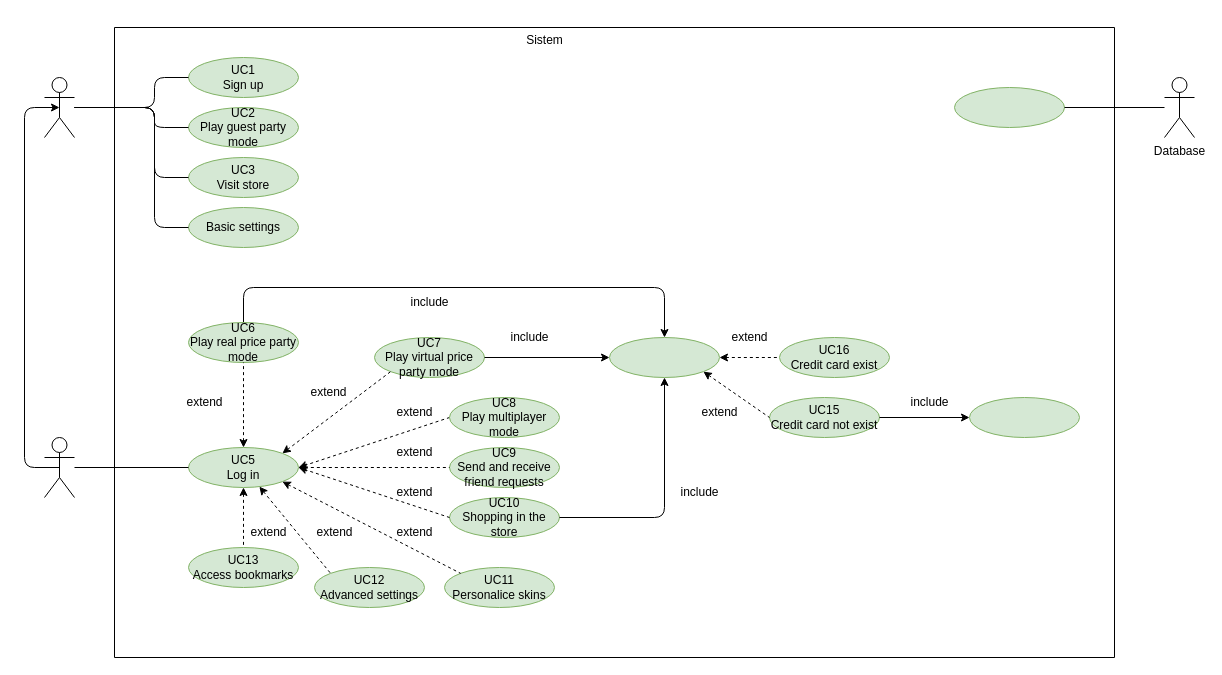
The diagram is 1222 pixels wide and 675 high, and some of its shapes have lost their labels. The shapes that lost their labels are listed below. From the top down, each one's box as (x1, y1, x2, y2) in pixels, then its label:
(44, 76, 74, 138): Guest
(954, 86, 1064, 128): UC18 Send and receive data
(608, 336, 720, 378): UC14 Check credit card
(968, 396, 1080, 438): UC17 Add credit card
(44, 436, 74, 498): User
